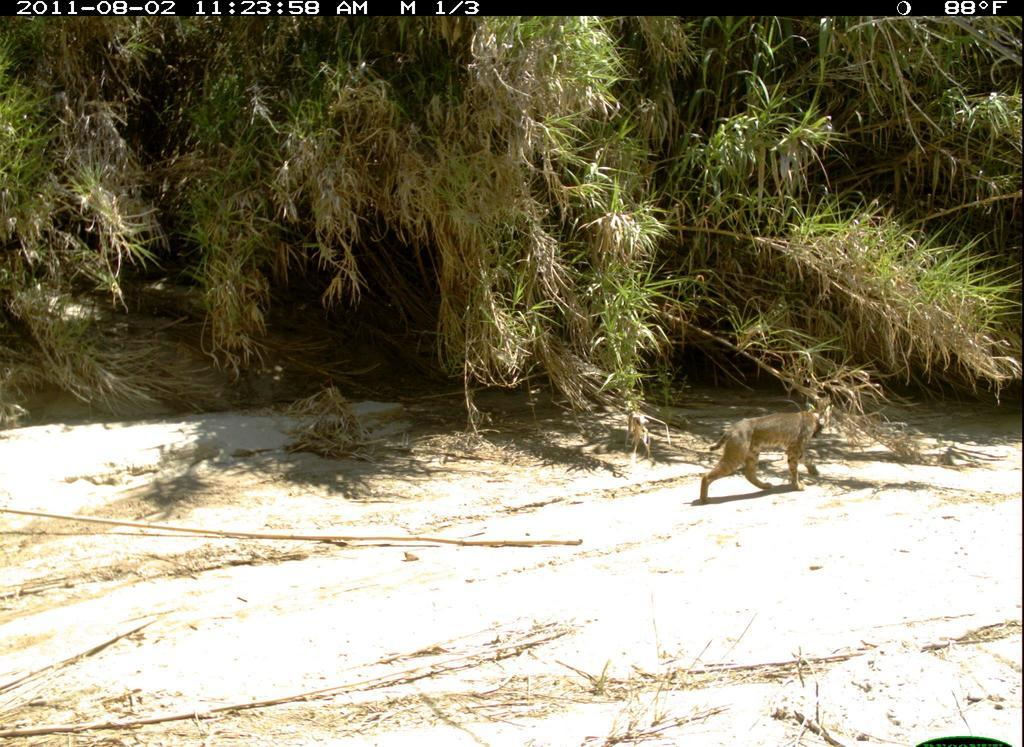bobcat: (689, 393, 845, 506)
